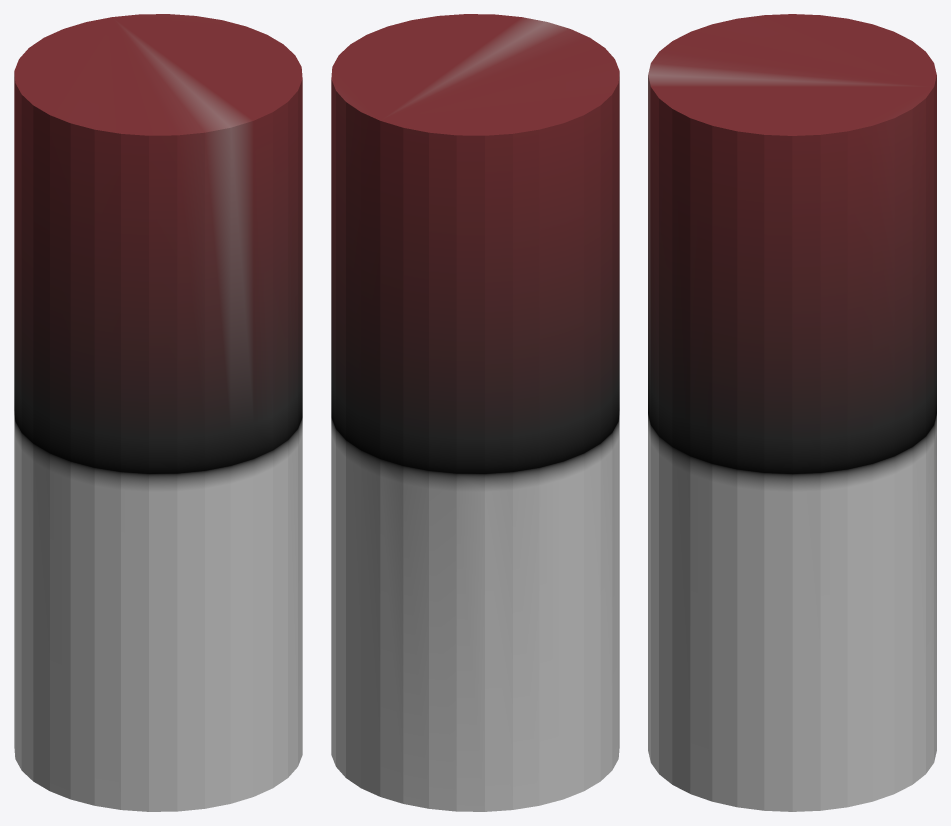
3 renders of one model, left to right at view 1: azimuth 30°, elevation 25°; view 2: azimuth 150°, elevation 25°; view 3: azimuth 270°, elevation 25°, orthographic.
Visible parts, largest first — view 1: Cylinder; view 2: Cylinder; view 3: Cylinder.
Boxes of the visible parts, x1,y1,x2,y2 form: Cylinder: (14, 14, 302, 811); Cylinder: (331, 14, 619, 811); Cylinder: (648, 14, 936, 811).
Size of the model in its own units: 2 by 5.17 by 2.
